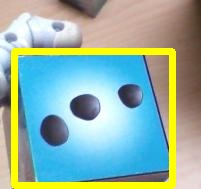Blue3: (14, 51, 172, 185)
